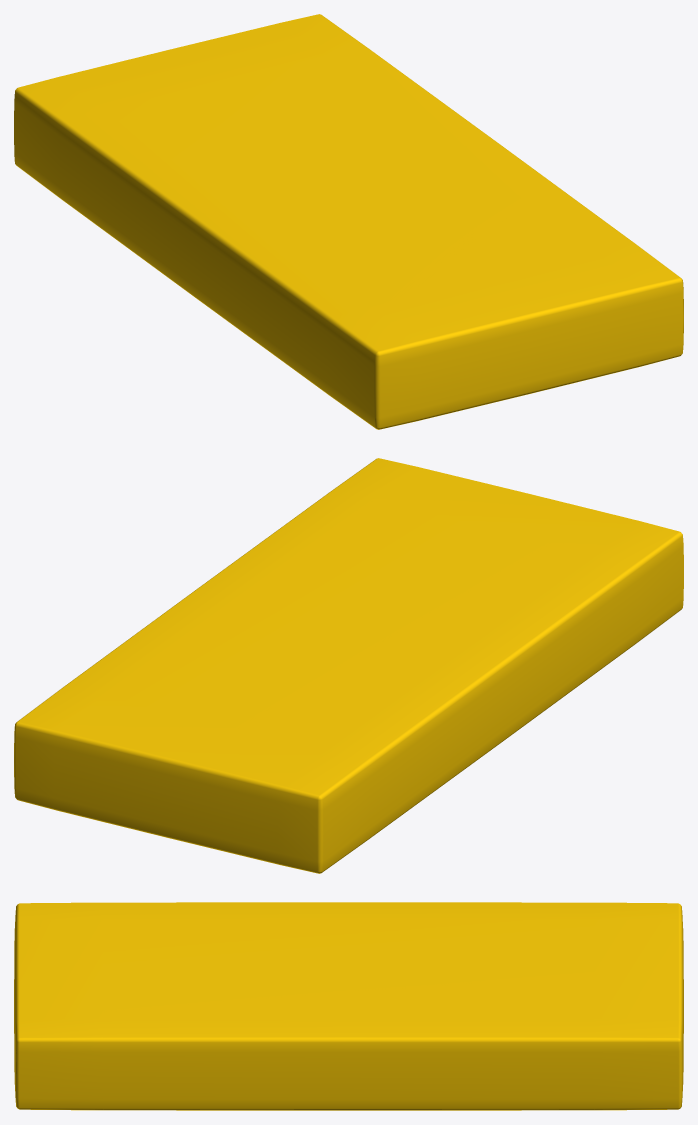
Rendered from Placa_Resorte.fbx.
3 renders of one model, top to bottom at view 1: azimuth 30°, elevation 25°; view 2: azimuth 150°, elevation 25°; view 3: azimuth 270°, elevation 25°, orthographic. The views are drawn at different scales.
Parts seen in each view (by area): view 1: pCube1; view 2: pCube1; view 3: pCube1.
Boxes of the visible parts, <box> form: pCube1: <box>14,14,683,429</box>; pCube1: <box>14,458,683,873</box>; pCube1: <box>14,902,683,1110</box>.
Bounding box in the file's own units: 1.97 × 0.5 × 4.
